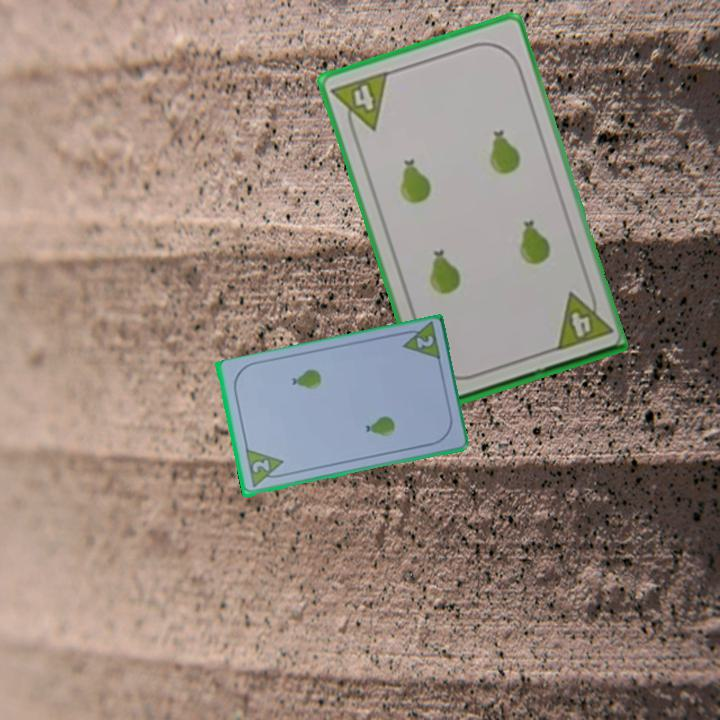2p: (242, 447, 288, 491), (412, 332, 437, 351)
4p: (327, 67, 391, 140), (550, 283, 614, 354)
